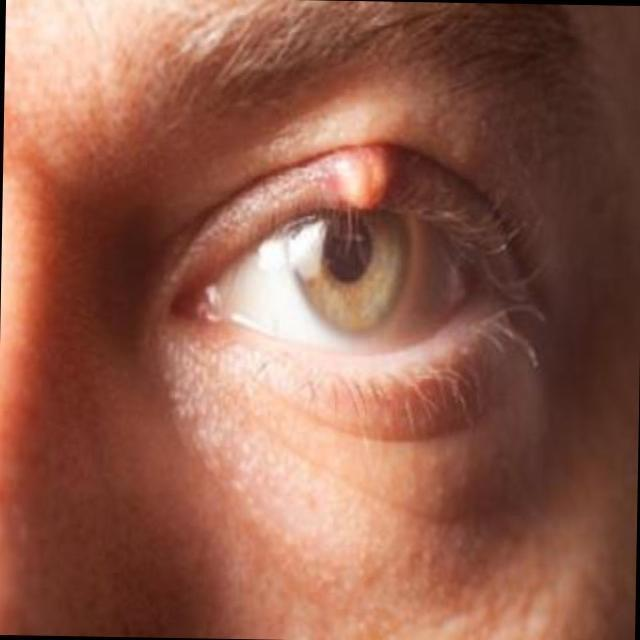Stye: (313, 133, 427, 222)
